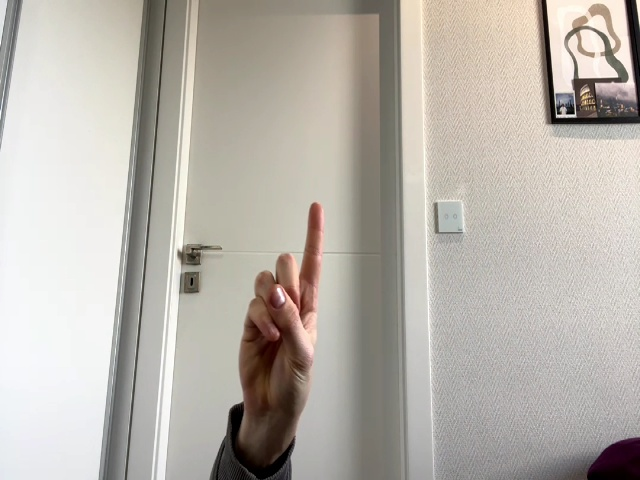Z: (238, 202, 325, 407)
